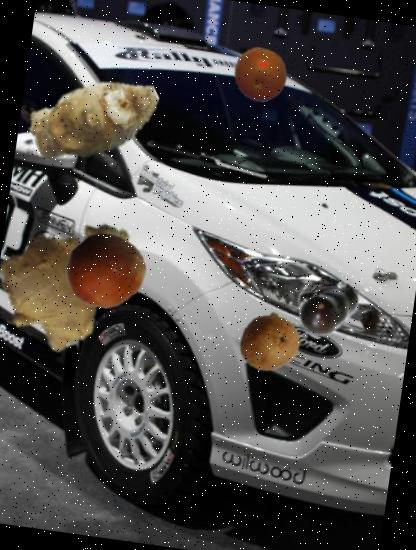Eggplant: (292, 270, 371, 349)
Ginger: (0, 197, 155, 364), (20, 44, 171, 194)
Kiwi: (236, 310, 304, 377)
Nut: (60, 227, 150, 316)
Tangelo: (229, 44, 292, 107)
